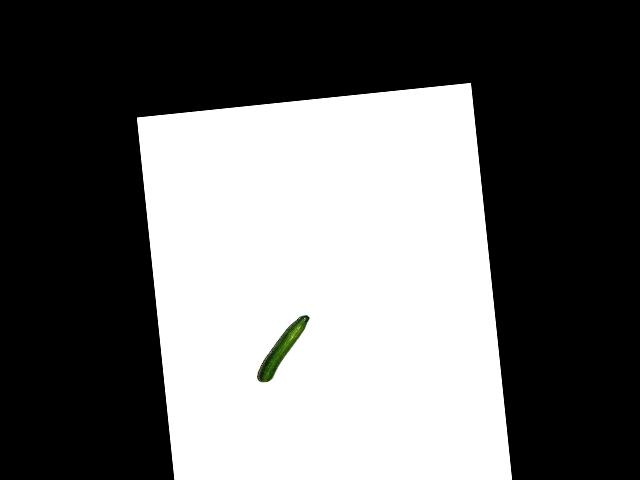cucumber: (251, 315, 315, 383)
